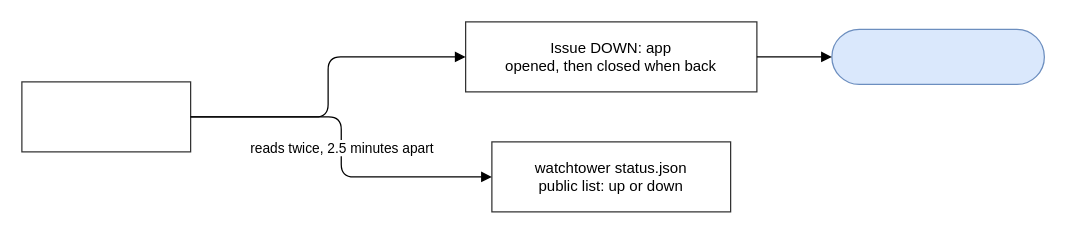
This 1066x234 diagram has some shape labels left out. The shapes that lost their labels are listed below. From the top down, each one's centre as x and y in pixels, then its label:
At pixel 937 56: "Owner: GitHub emails".
At pixel 106 116: "GitHub Actions every 5 minutes".
